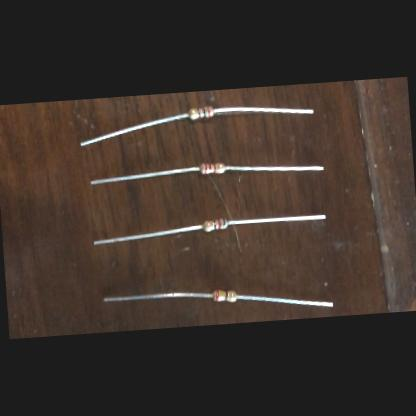resistor: (212, 288, 236, 304), (203, 218, 228, 232), (200, 162, 225, 175), (188, 106, 213, 119)
wire: (78, 113, 190, 147), (237, 288, 332, 314), (92, 225, 204, 246), (90, 167, 200, 186), (102, 290, 212, 308), (224, 160, 323, 178), (214, 102, 313, 120), (228, 214, 324, 227)
